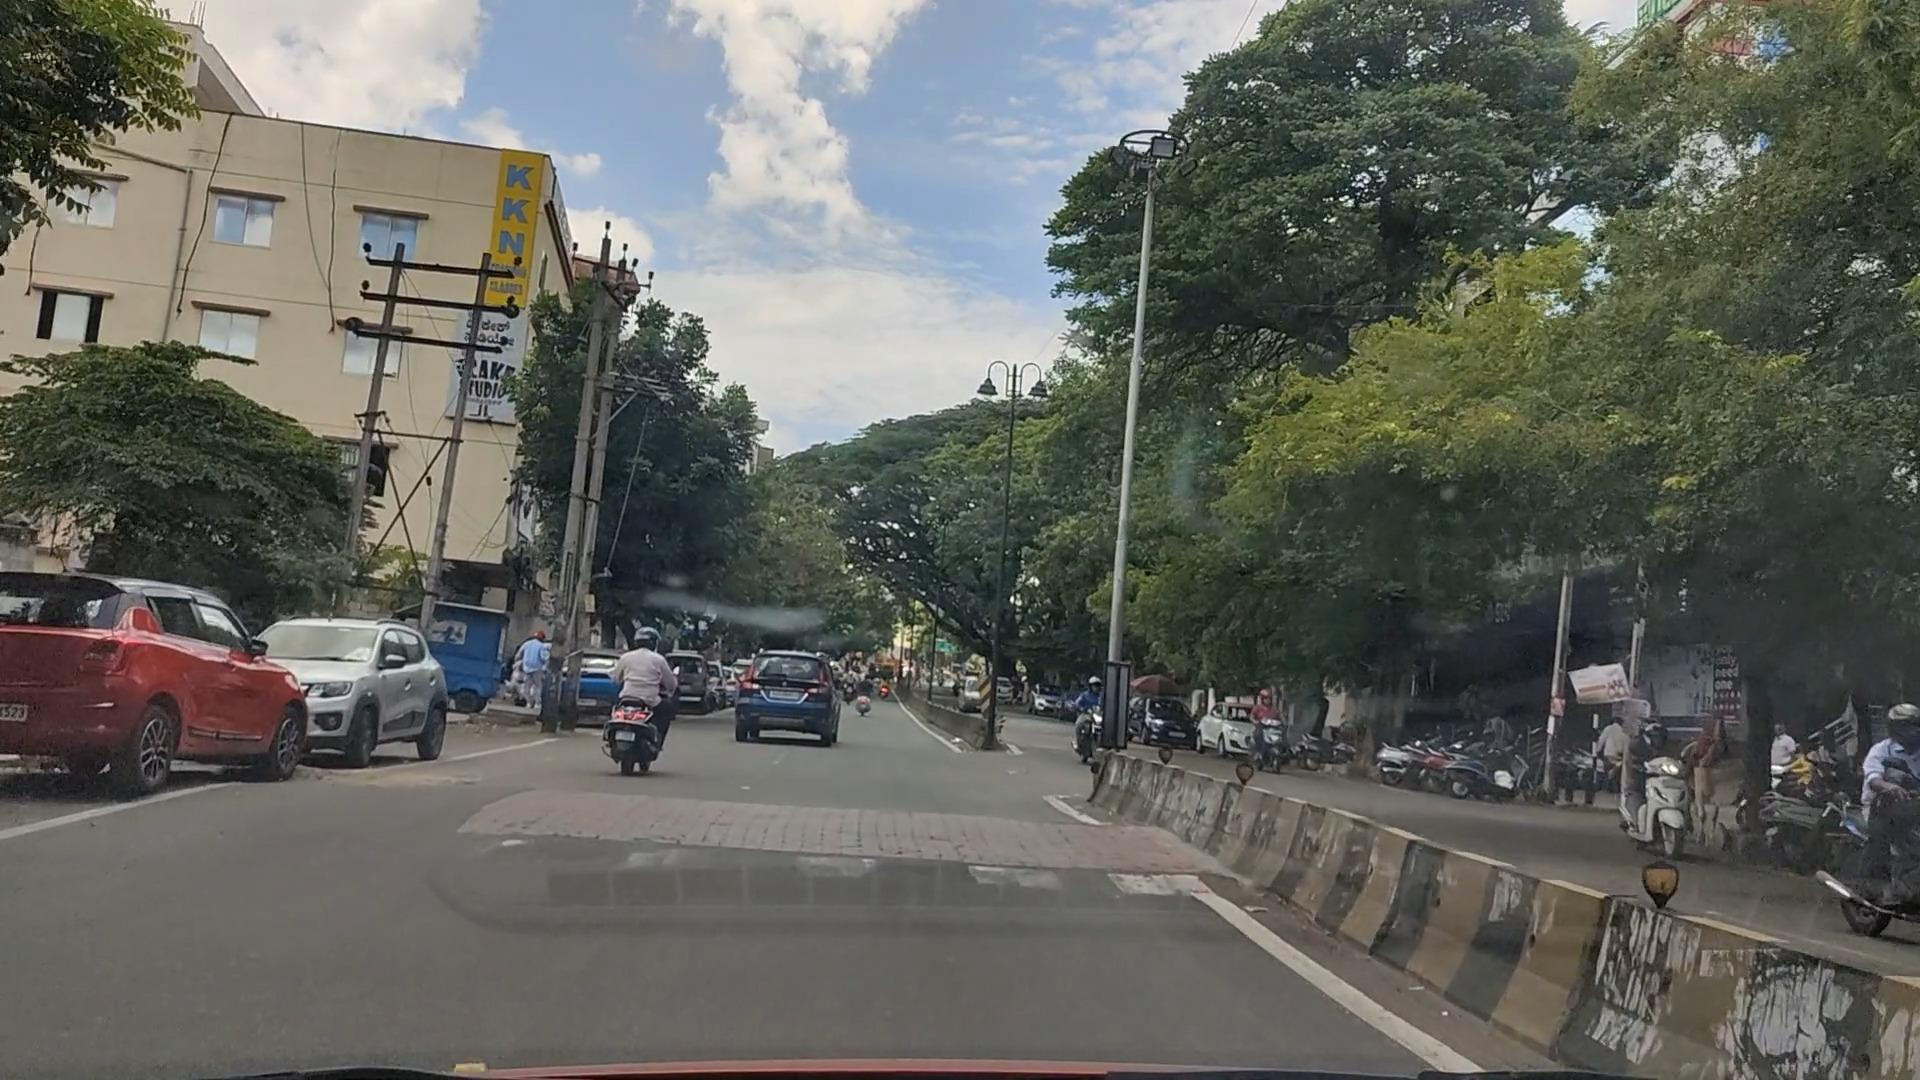LMV: (0, 553, 311, 781)
SpeedBump: (245, 750, 1220, 924)
